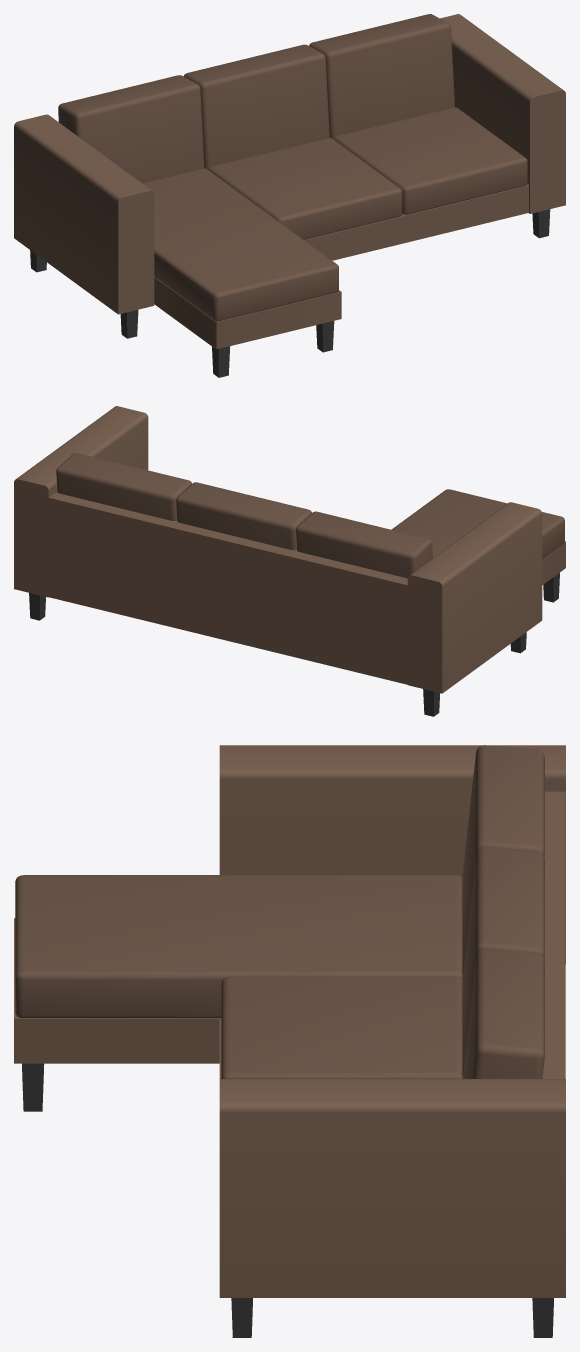
Rendered from Sofa8_C3.fbx.
3 views of the same model, one above another, from view 1: azimuth 30°, elevation 25°; view 2: azimuth 150°, elevation 25°; view 3: azimuth 270°, elevation 25° (orthographic). The views are drawn at different scales.
Visible parts, largest first — view 1: Sofa8_C3; view 2: Sofa8_C3; view 3: Sofa8_C3.
Part boxes in pixels (x1=…): Sofa8_C3: x1=14, y1=14, x2=565, y2=377; Sofa8_C3: x1=14, y1=406, x2=565, y2=716; Sofa8_C3: x1=14, y1=745, x2=565, y2=1337.
Size of the model in its own units: 248 by 86.76 by 159.
